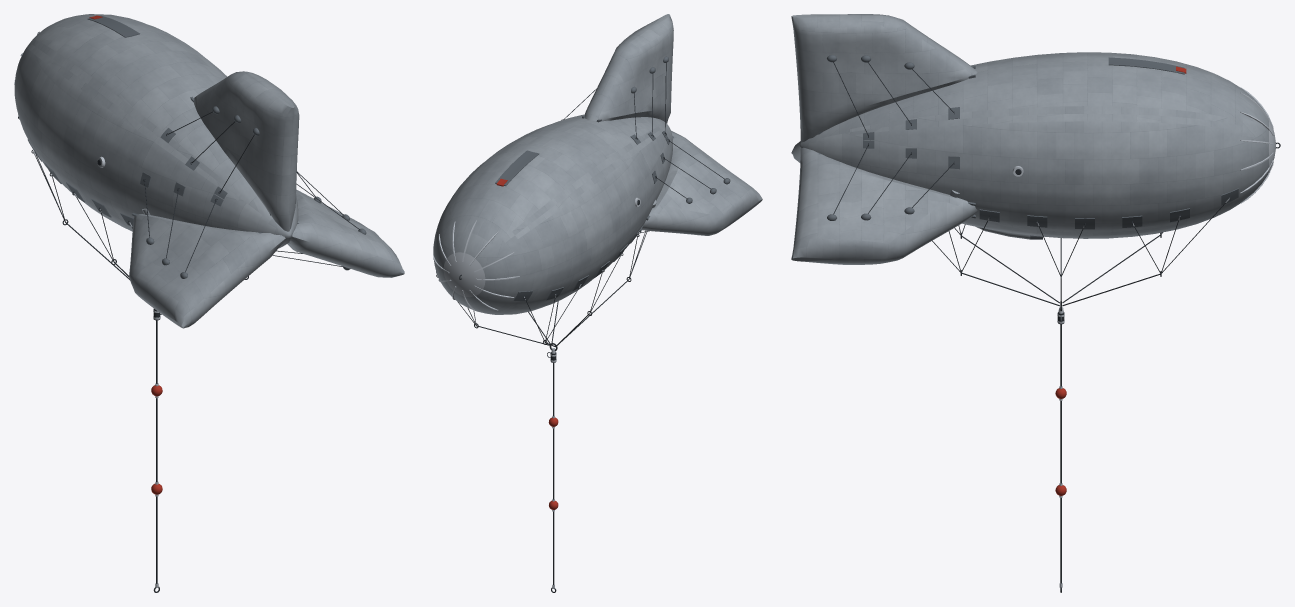
File: barrage_balloon.glb
3 renders of one model, left to right at view 1: azimuth 30°, elevation 25°; view 2: azimuth 150°, elevation 25°; view 3: azimuth 270°, elevation 25°, orthographic. The views are drawn at different scales.
Visible parts, largest first — view 1: Envelope, Stabilizer_Fins, Mooring_Cable, Rigging_Harness; view 2: Envelope, Stabilizer_Fins, Rigging_Harness, Mooring_Cable; view 3: Envelope, Stabilizer_Fins, Rigging_Harness, Mooring_Cable.
Boxes of the visible parts, x1,y1,x2,y2 form: Envelope: (14, 14, 298, 248); Stabilizer_Fins: (129, 71, 404, 328); Mooring_Cable: (151, 320, 162, 592); Rigging_Harness: (33, 151, 248, 320); Envelope: (433, 114, 672, 314); Stabilizer_Fins: (563, 14, 762, 235); Rigging_Harness: (458, 230, 647, 362); Mooring_Cable: (548, 362, 558, 592); Envelope: (799, 52, 1280, 239); Stabilizer_Fins: (791, 14, 977, 264); Rigging_Harness: (932, 198, 1229, 324); Mooring_Cable: (1055, 324, 1066, 592).
Bounding box in the file's own units: 10.85 × 26.75 × 20.59.
7 materials, 2 textured.
